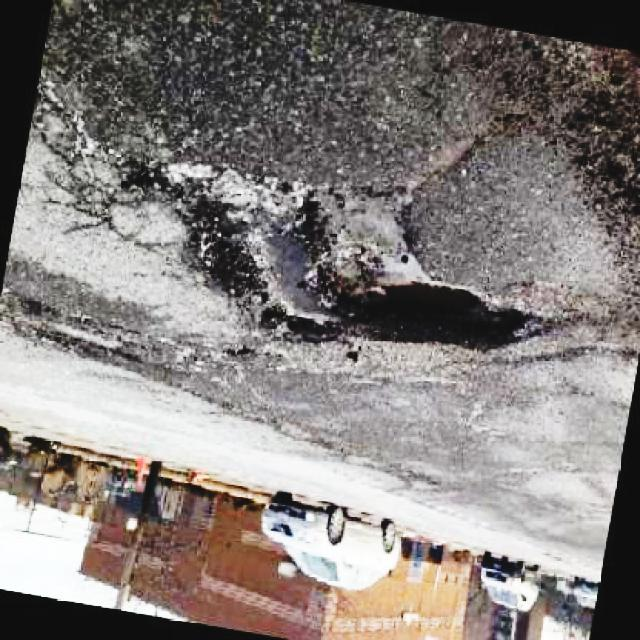pothole: (118, 151, 544, 352)
